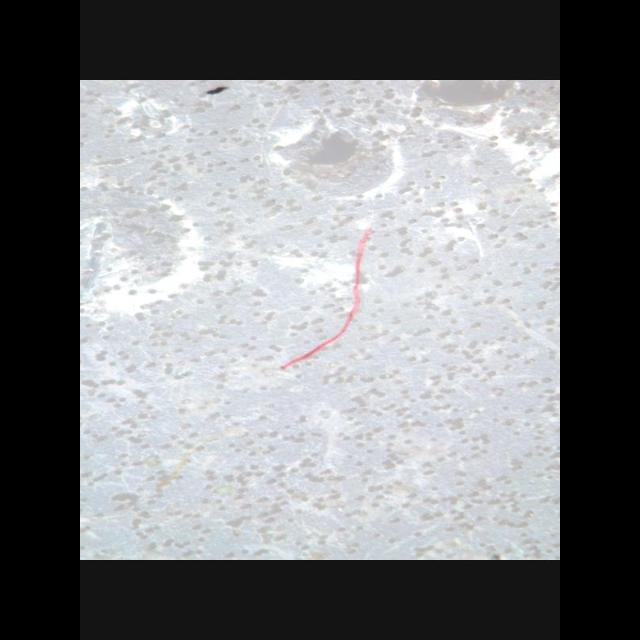Fibre: (250, 225, 390, 379)
